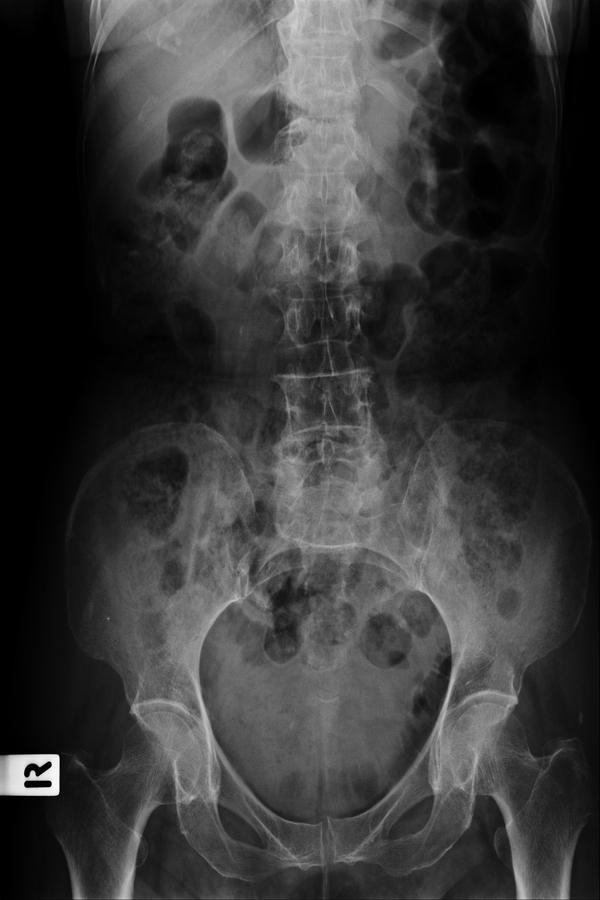lumbar scoliosis: (264, 153, 394, 561)
